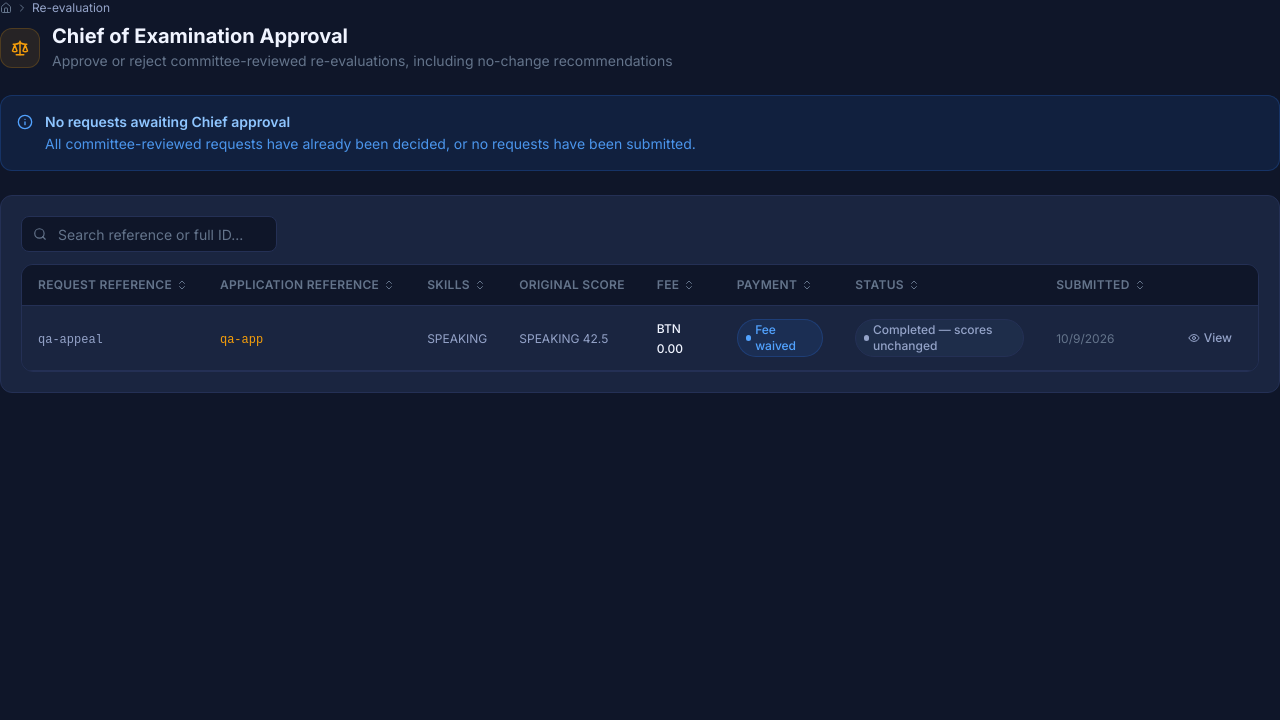
Test: completes Outcome for NO_CHANGE without presenting a rejected proposal as applied
Click the button "View" at (1210, 338), box [1178,324,1242,352]
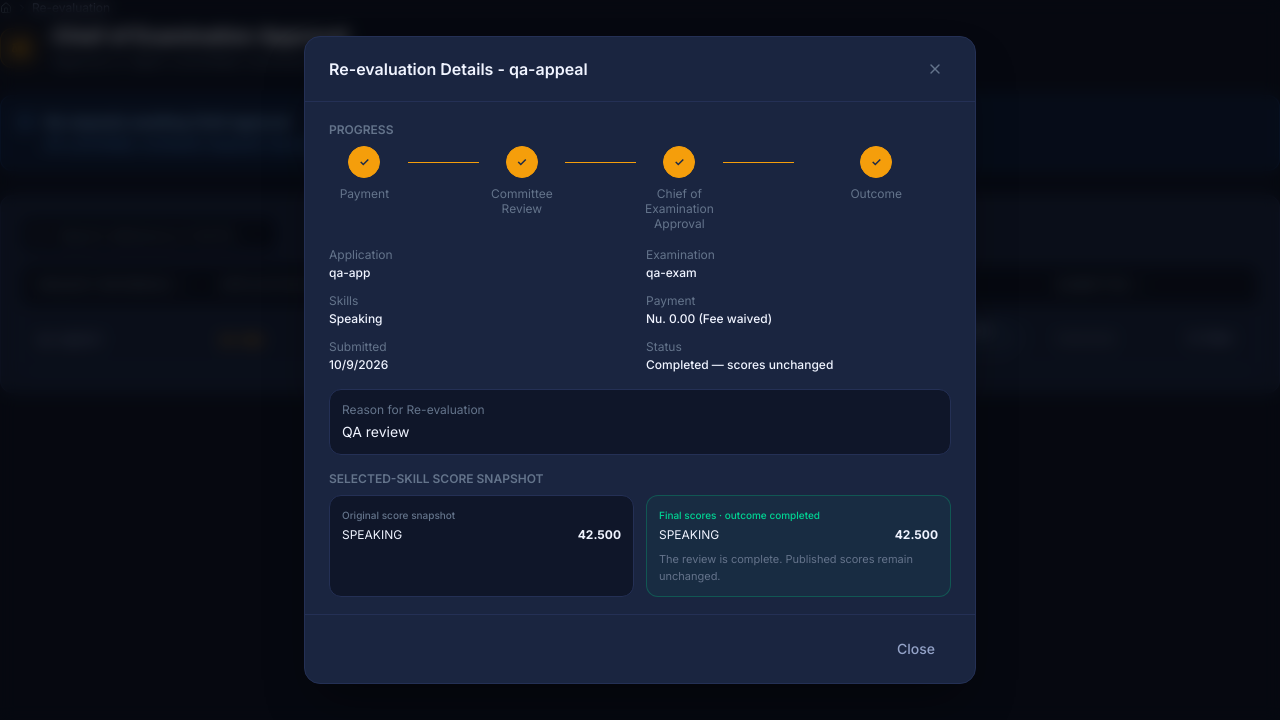
Expected: the text "✓" is shown 4 times, [348,146,380,178]; [506,146,538,178]; [663,146,695,178]; [860,146,892,178]
Expected: the text "The review is complete. Published scores remain unchanged." is shown, [659,551,938,584]
